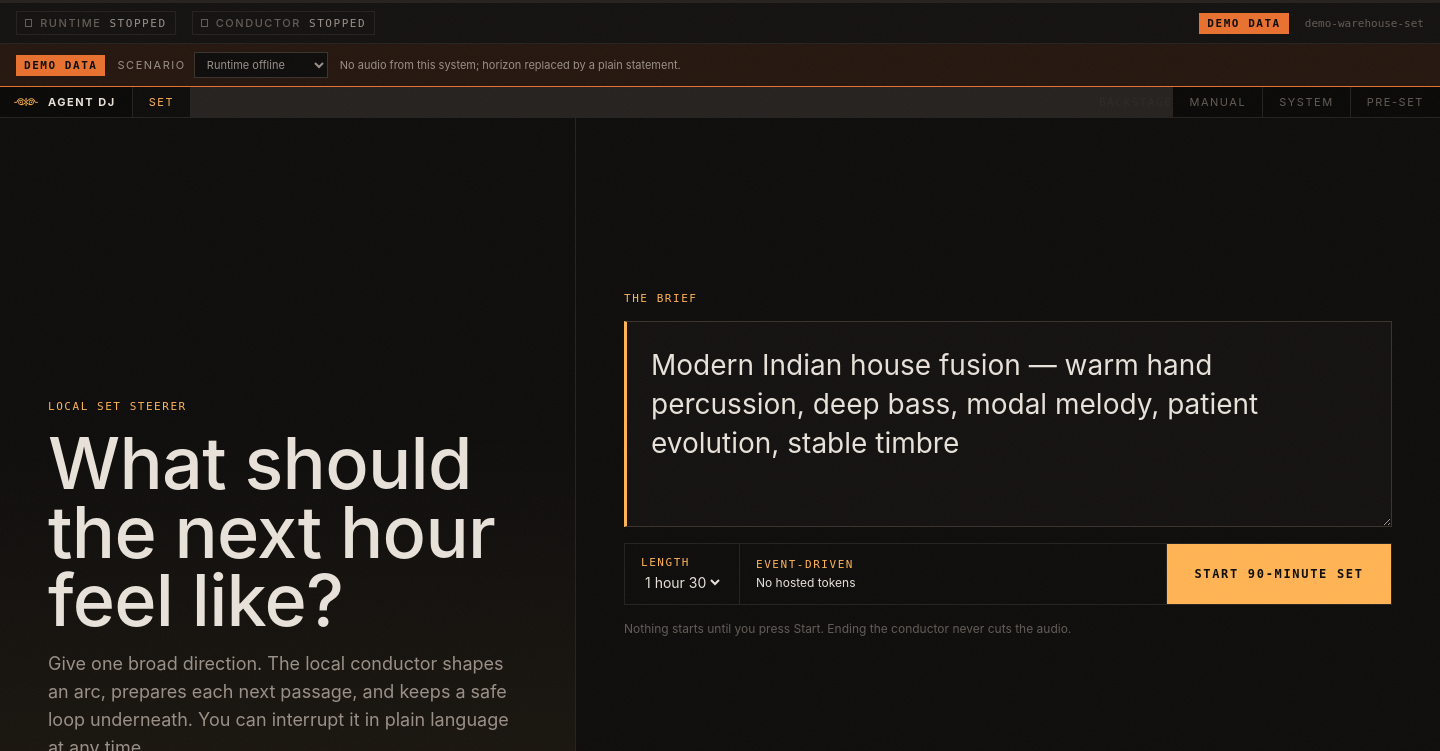
Test case: control room › states that nothing is audible and offers one launch action while stopped
What coordinates should you click on to do the following:
click the button with aria-label "Control room"
I would click on:
 (1218, 102)
Its box is [1173, 87, 1262, 117].
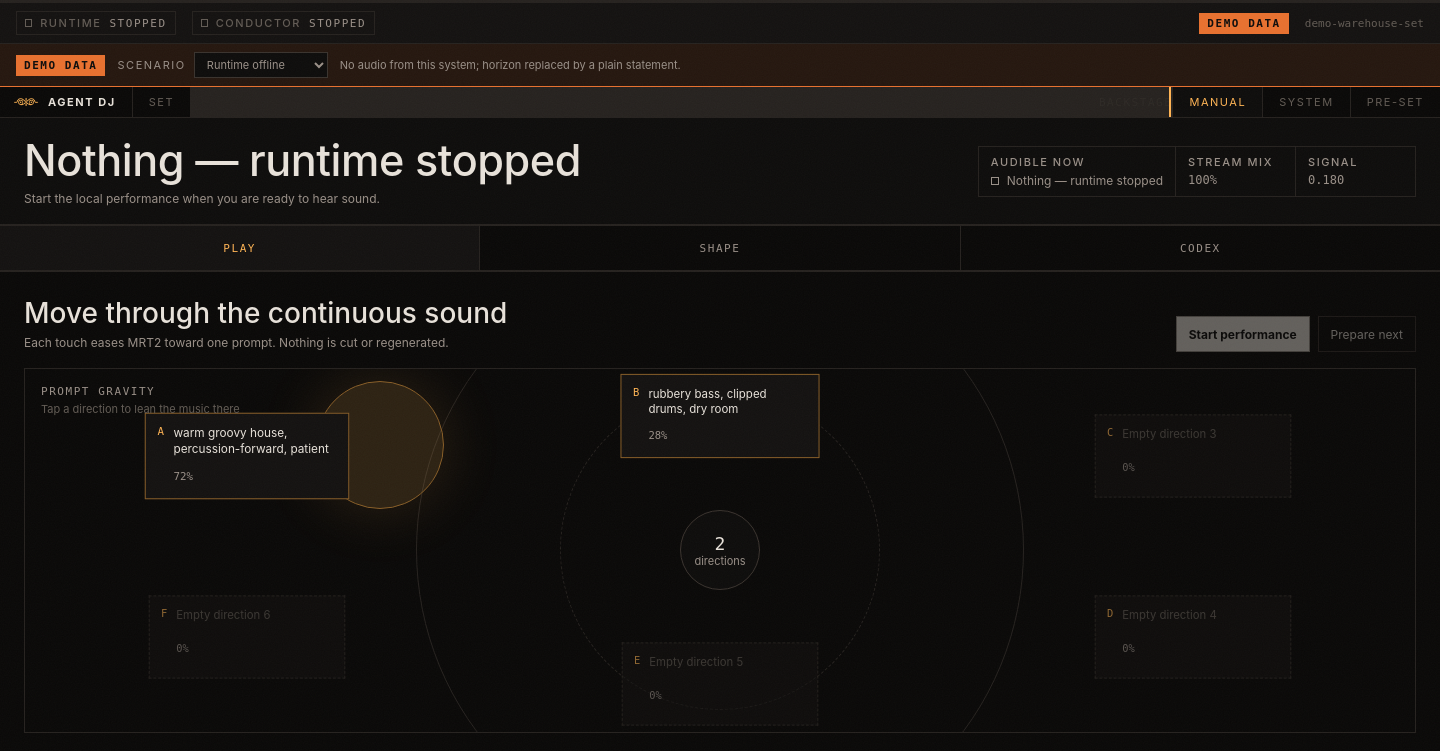
Now the heading "Nothing — runtime stopped" is shown, box [24, 134, 581, 186]
Now the button "Start performance" is shown, box [1176, 316, 1310, 352]
What coordinates should you click on to do the following:
click the button "Shape"
I would click on:
 (720, 248)
Its box is [480, 226, 960, 270].
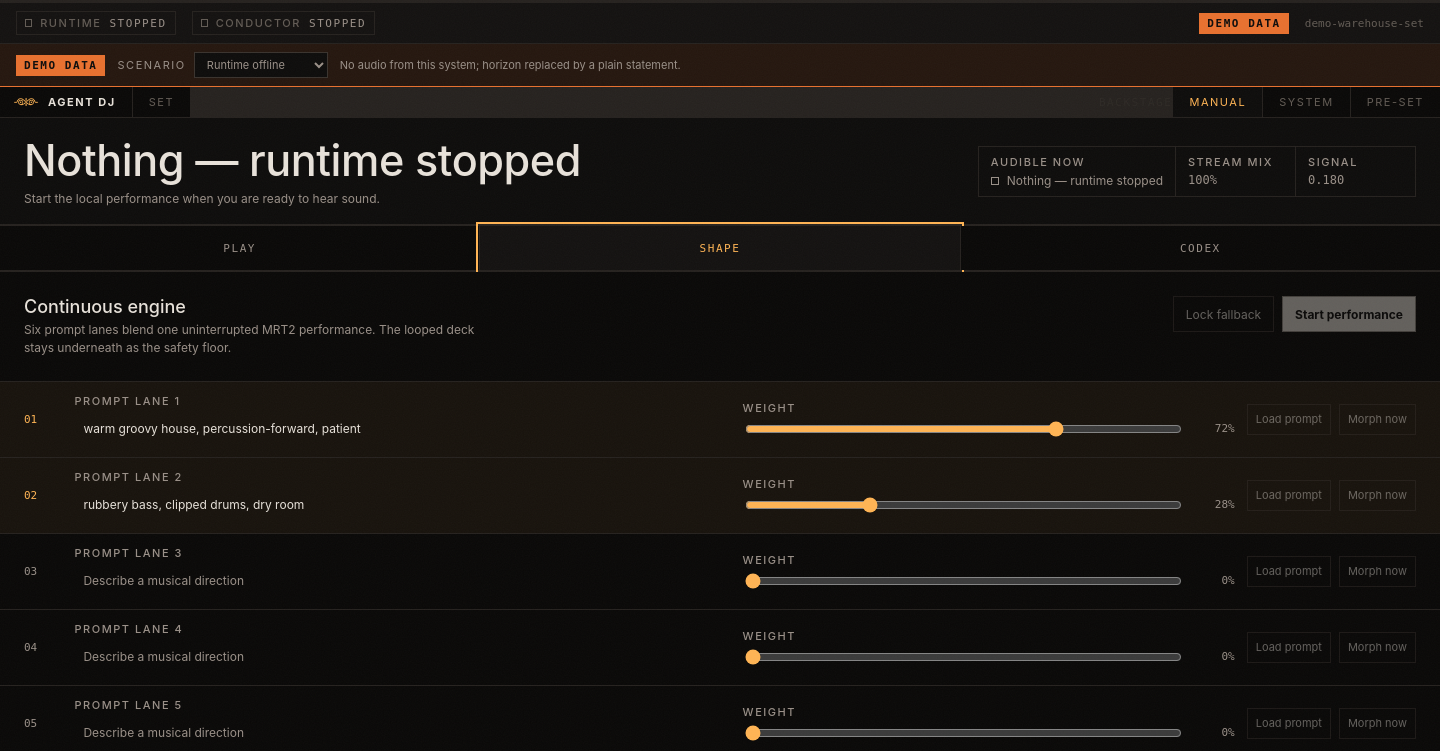
Now the button with aria-label "Morph lane 1 now" is disabled, box [1339, 404, 1416, 435]
